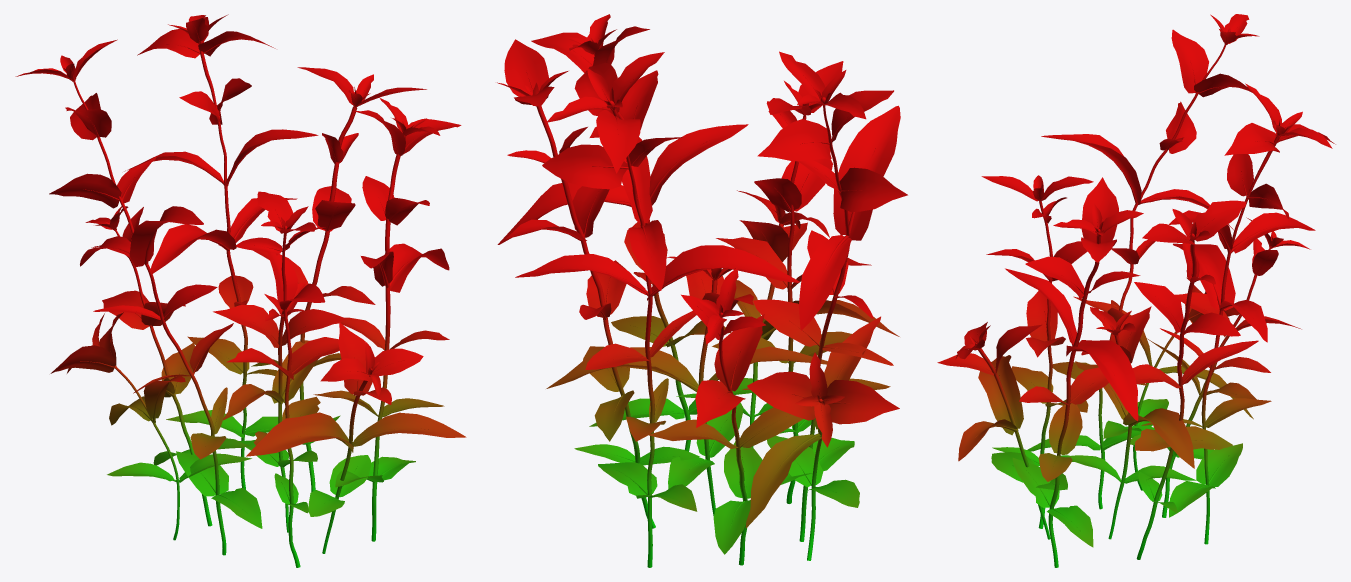
The model's file is Var3_LOD0.fbx.
3 renders of one model, left to right at view 1: azimuth 30°, elevation 25°; view 2: azimuth 150°, elevation 25°; view 3: azimuth 270°, elevation 25°, orthographic. The views are drawn at different scales.
Parts seen in each view (by area): view 1: _bnlw_Var3_LOD0; view 2: _bnlw_Var3_LOD0; view 3: _bnlw_Var3_LOD0.
Part boxes in pixels (<box>): _bnlw_Var3_LOD0: <box>15,14,466,567</box>; _bnlw_Var3_LOD0: <box>497,14,907,567</box>; _bnlw_Var3_LOD0: <box>937,14,1335,567</box>.
Bounding box in the file's own units: 37.78 × 45.9 × 36.39.
